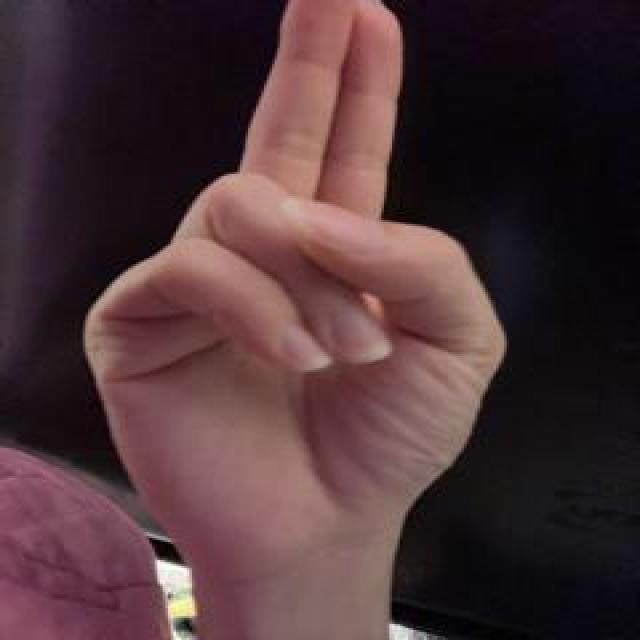U: (65, 0, 516, 540)
